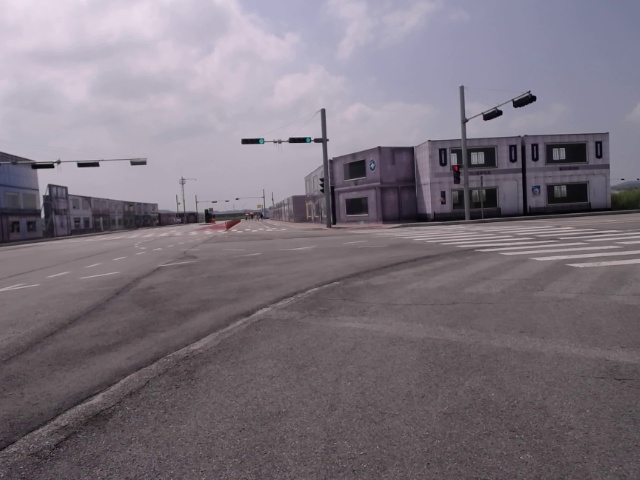straight_green_4: (241, 137, 265, 145), (288, 137, 313, 142)
